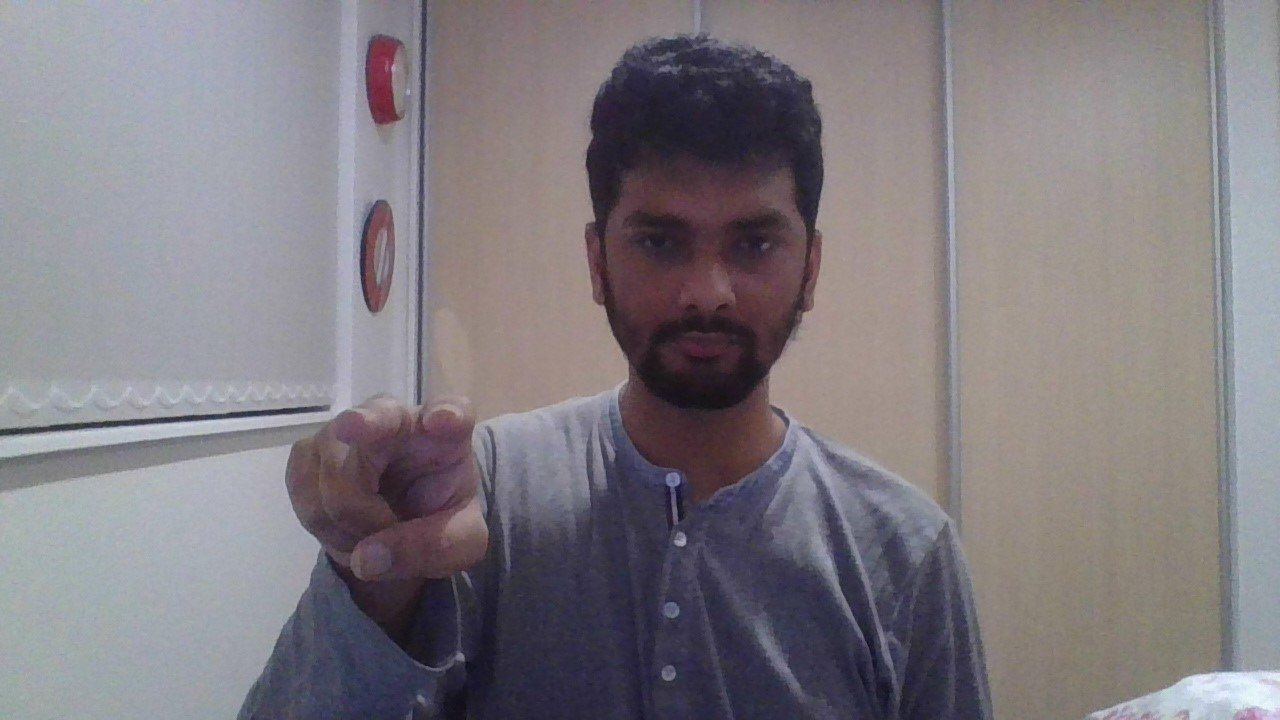look_around: (285, 396, 489, 581)
